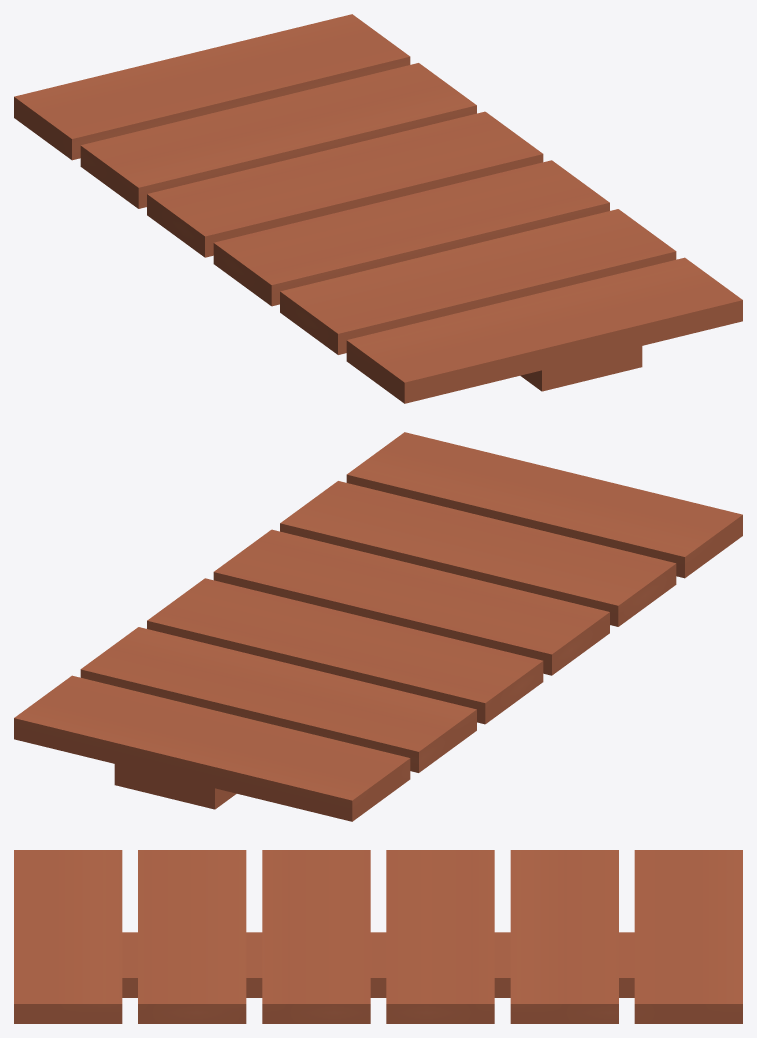
Rendered from planksHalf.fbx.
3 renders of one model, top to bottom at view 1: azimuth 30°, elevation 25°; view 2: azimuth 150°, elevation 25°; view 3: azimuth 270°, elevation 25°, orthographic. The views are drawn at different scales.
Visible parts, largest first — view 1: planks.001; view 2: planks.001; view 3: planks.001.
Part boxes in pixels (box(x1,y1,x2,y2)): planks.001: box(14, 14, 742, 403); planks.001: box(14, 432, 742, 821); planks.001: box(14, 850, 742, 1023).
Bounding box in the file's own units: 0.5 × 1 × 0.06.
